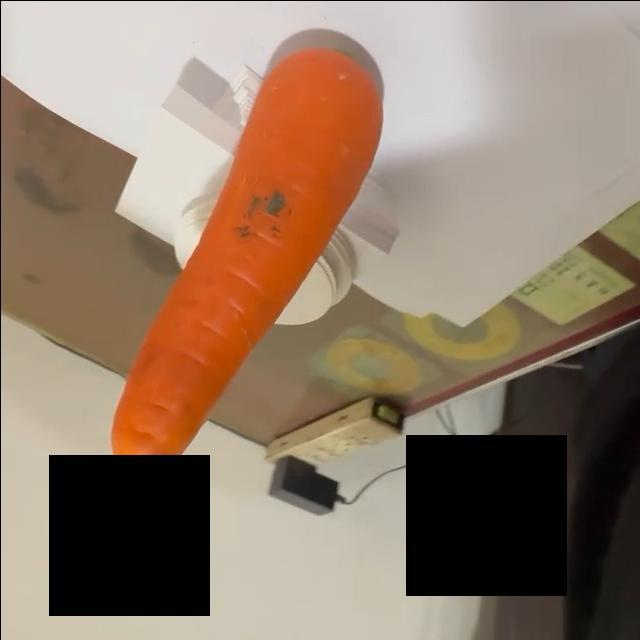carrot: (110, 48, 387, 479)
